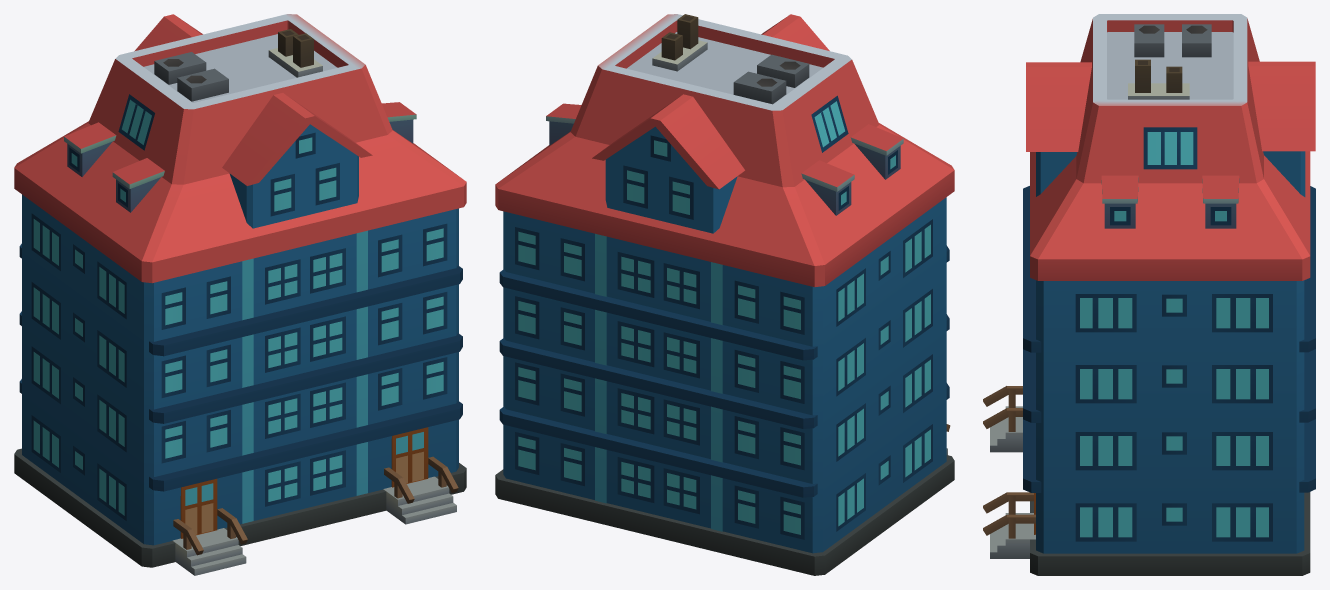
The model's file is Building_cartoon_37.fbx.
3 views of the same model, side by side, from view 1: azimuth 30°, elevation 25°; view 2: azimuth 150°, elevation 25°; view 3: azimuth 270°, elevation 25° (orthographic). The views are drawn at different scales.
Visible parts, largest first — view 1: Building_cartoon_37; view 2: Building_cartoon_37; view 3: Building_cartoon_37.
Boxes of the visible parts, x1,y1,x2,y2 form: Building_cartoon_37: (14,14,466,575); Building_cartoon_37: (495,14,954,575); Building_cartoon_37: (983,14,1315,575).
Bounding box in the file's own units: 1663 × 2151 × 1422.
